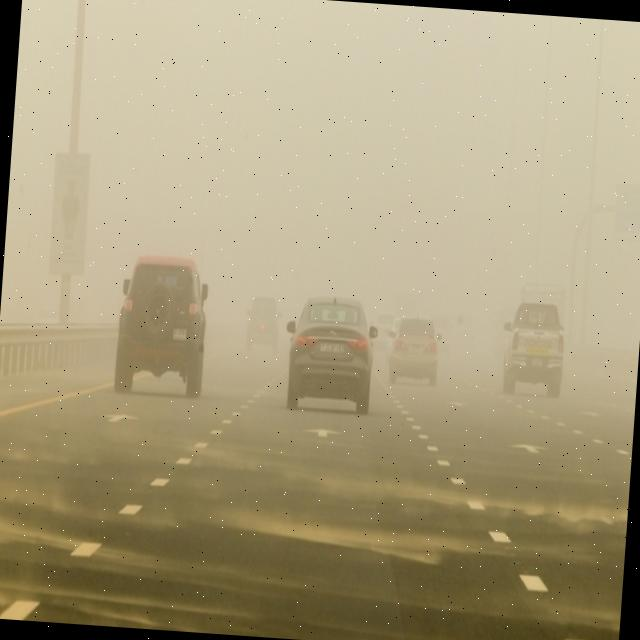car: (109, 252, 210, 400), (281, 294, 378, 414), (498, 293, 568, 399), (385, 318, 441, 386), (243, 294, 280, 352), (370, 311, 400, 358)
